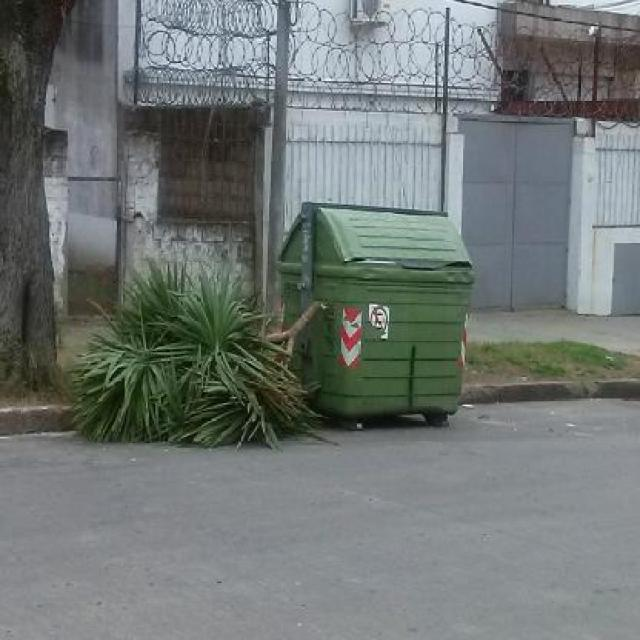garbage: (89, 255, 334, 420)
